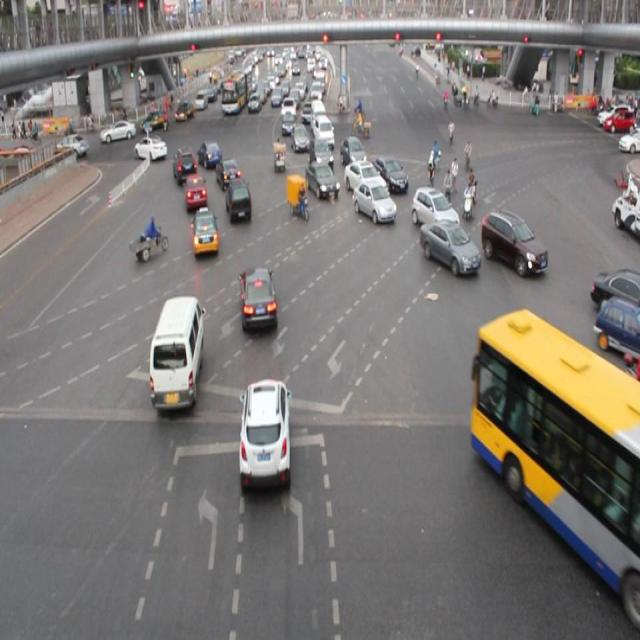car: (239, 378, 293, 492), (480, 211, 546, 273), (420, 220, 480, 273), (592, 298, 640, 364), (589, 266, 640, 318), (239, 267, 278, 332), (410, 187, 458, 230), (353, 179, 396, 223), (344, 160, 386, 196), (369, 155, 407, 192), (191, 207, 219, 255), (226, 178, 252, 224), (305, 161, 338, 197), (183, 171, 208, 212), (171, 148, 197, 185), (340, 134, 366, 169), (135, 135, 167, 162), (309, 135, 333, 171), (215, 156, 240, 188), (198, 139, 222, 170)
truck: (147, 295, 201, 409)
van: (470, 312, 640, 614)
